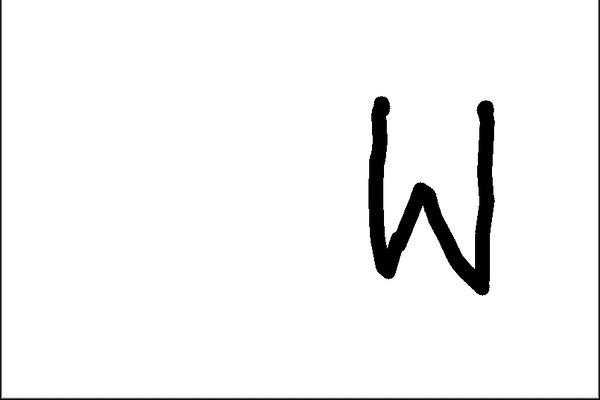w: (352, 86, 517, 308)
